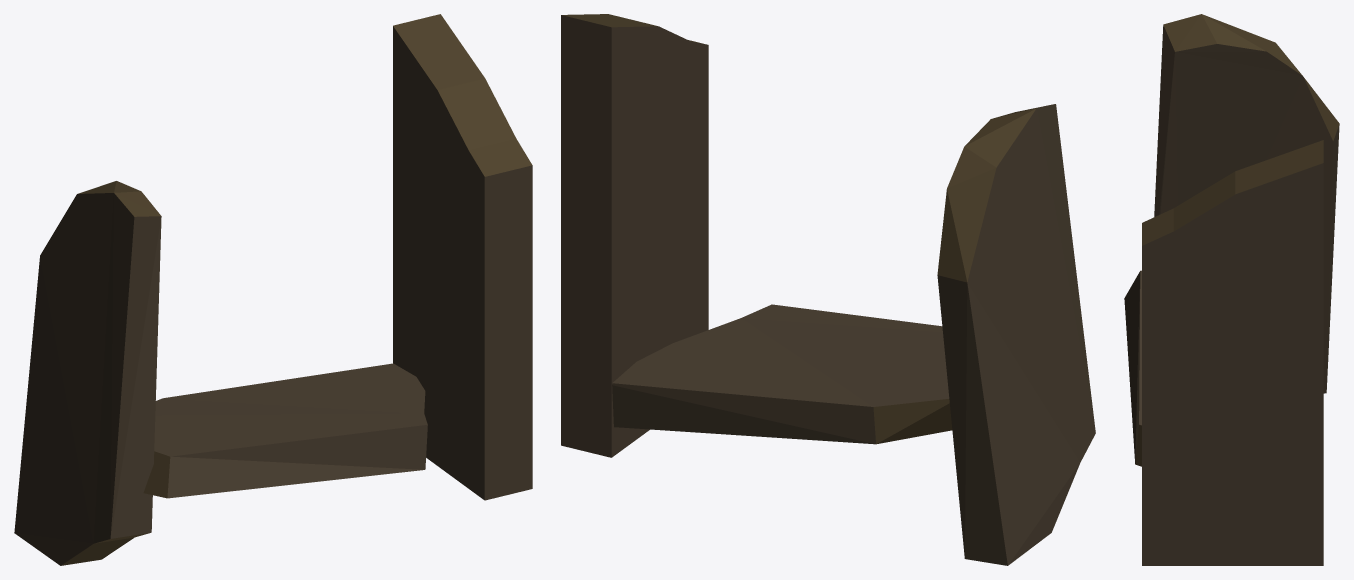
The model's file is ADDON_DUNGEON_SHELF_02.OBJ.
3 renders of one model, left to right at view 1: azimuth 30°, elevation 25°; view 2: azimuth 150°, elevation 25°; view 3: azimuth 270°, elevation 25°, orthographic. The views are drawn at different scales.
Parts seen in each view (by area): view 1: ADDON_DUNGEON_SHELF_02; view 2: ADDON_DUNGEON_SHELF_02; view 3: ADDON_DUNGEON_SHELF_02.
Boxes of the visible parts, x1,y1,x2,y2 form: ADDON_DUNGEON_SHELF_02: (14,14,532,565); ADDON_DUNGEON_SHELF_02: (561,14,1095,565); ADDON_DUNGEON_SHELF_02: (1124,14,1339,565).
Size of the model in its own units: 1.68 by 1.6 by 0.7473.
